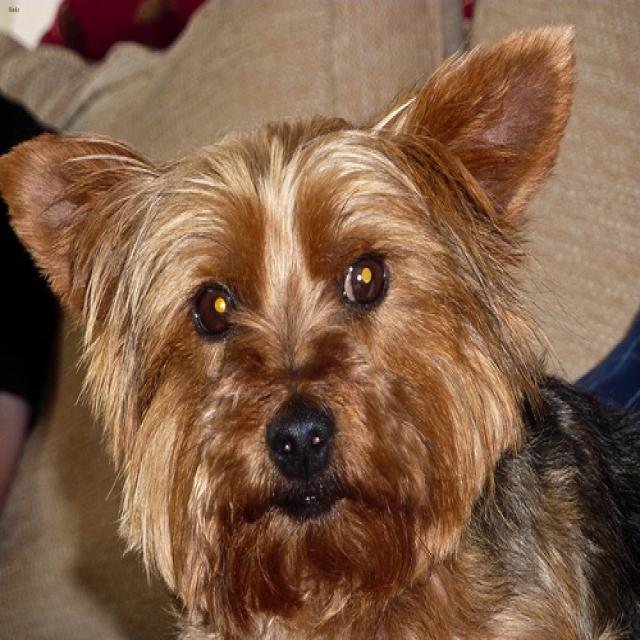dog-yorkshire_terrier: (1, 7, 637, 637)
